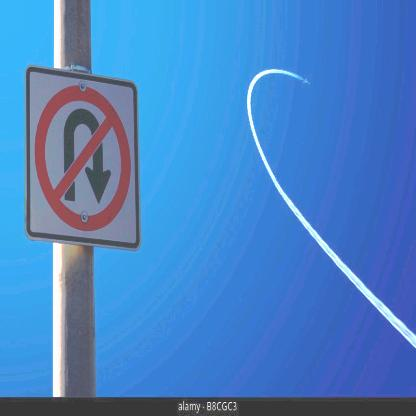No U-turn: (29, 62, 149, 251)
